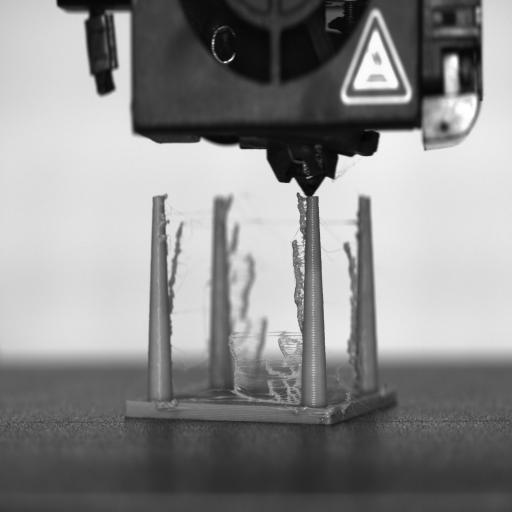spaghetti_and_stringing: (168, 192, 364, 410)
